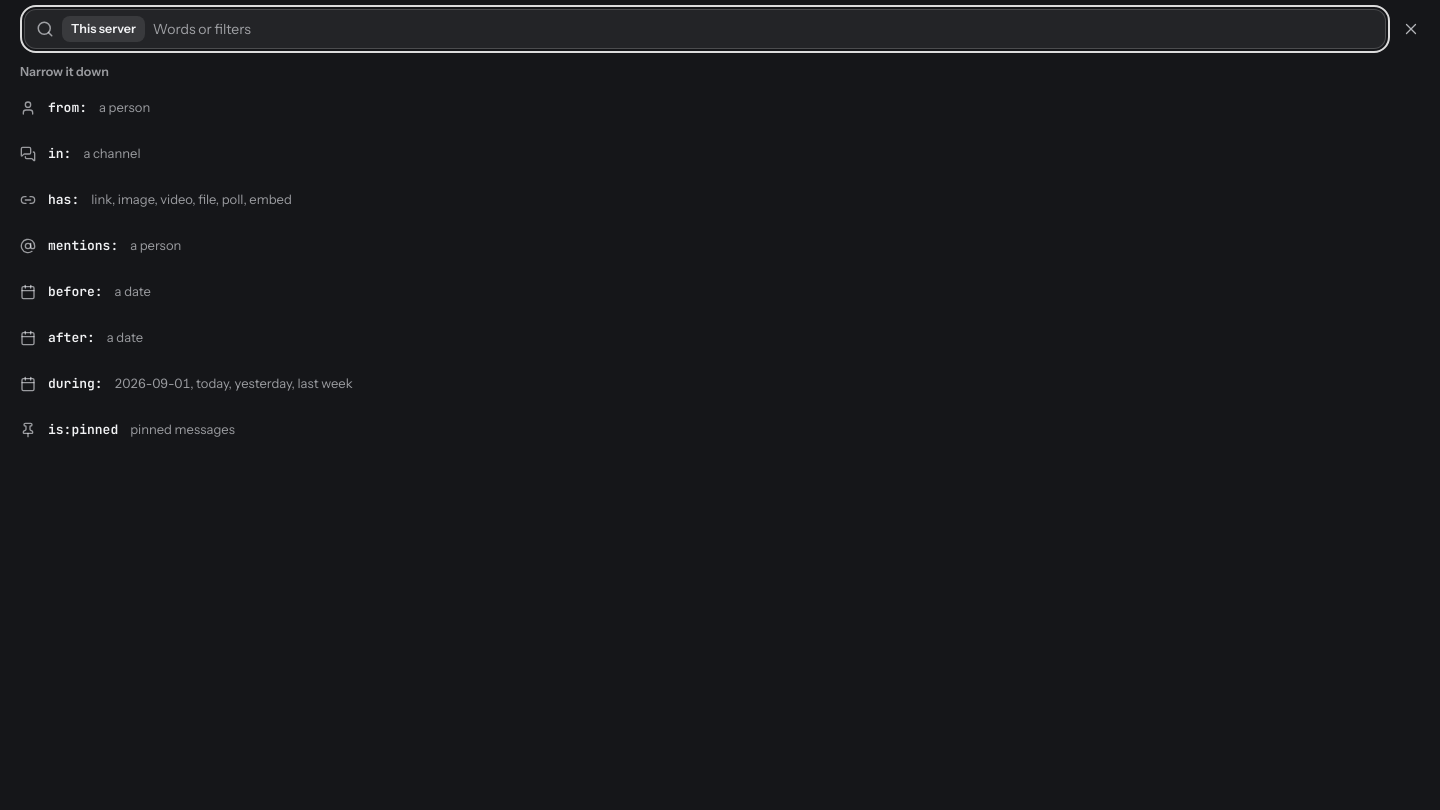
SearchOverlay › writes a result time the way the rest of the app does: lowercase pm
In the dropdown named "Search messages": (763, 29) x1=153 y1=20 x2=1374 y2=38, type "postgres"
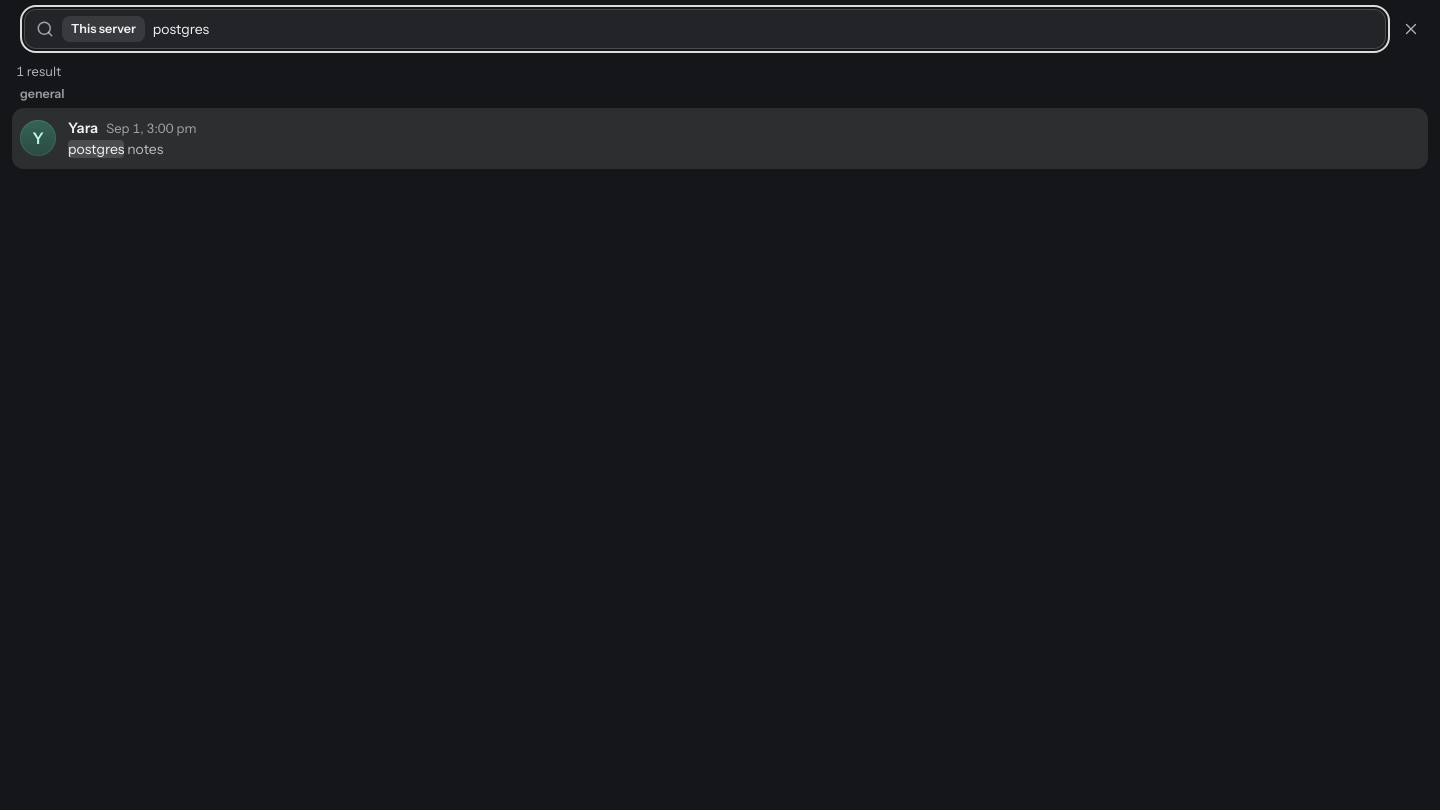
Now the text with class "glass-instrument" reads "Sep 1, 3:00 pm", box x1=106 y1=120 x2=196 y2=136
